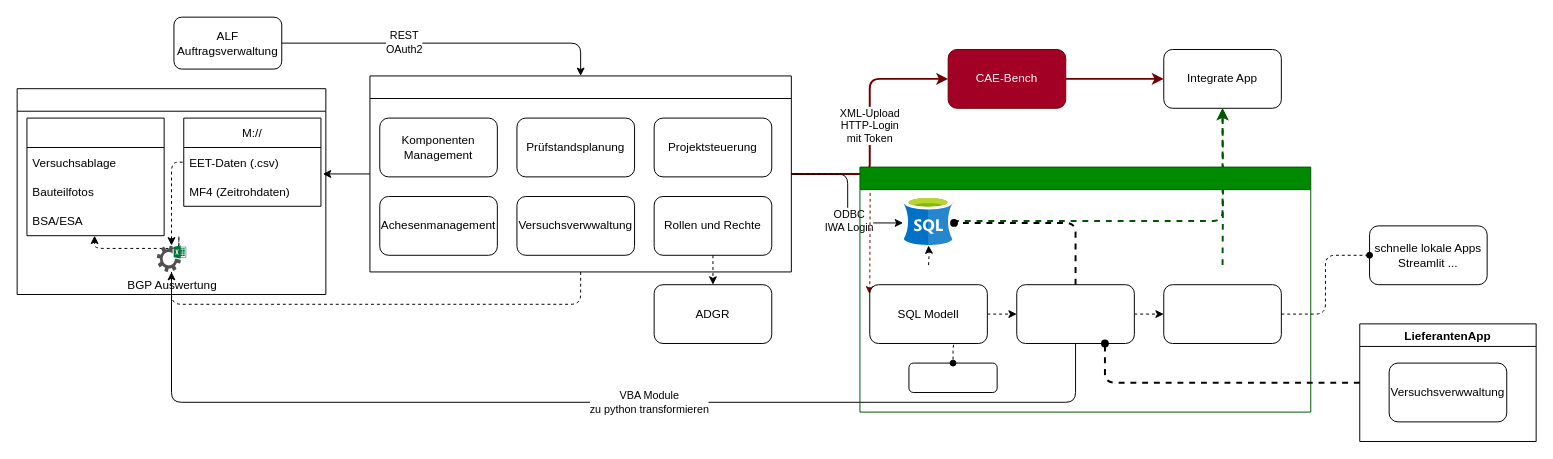
Some shapes in this 1553 by 459 pixel diagram are drawn without their labels. Each missing label, with the box of its shape:
ASAM ATFX: (908, 362, 997, 392)
Backend Devlopment (AMI): (859, 166, 1311, 412)
FastAPI Rest: (1163, 284, 1281, 343)
MS-SQL-Server: (904, 196, 953, 245)
Netzlaufwerk: (16, 88, 326, 294)
NVHBrake MS-Access: (369, 75, 791, 272)
P://: (26, 117, 164, 236)
Python Module: (1016, 284, 1134, 343)
